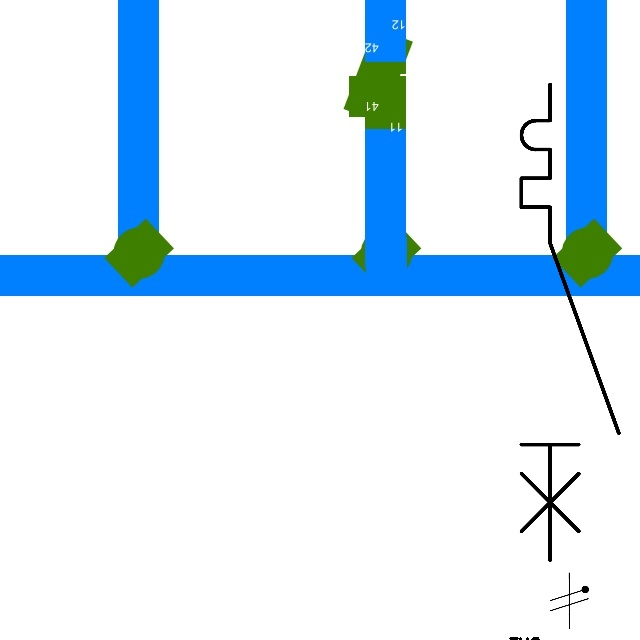interruptor_termomagnetico: (509, 72, 631, 572)
